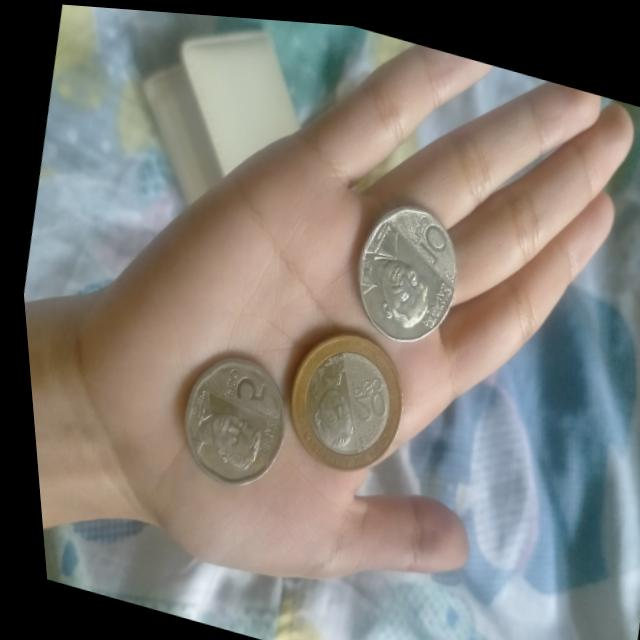10_New_Front: (395, 195, 455, 266)
20_New_Front: (328, 353, 393, 438)
5_New_Front: (203, 358, 266, 424)
